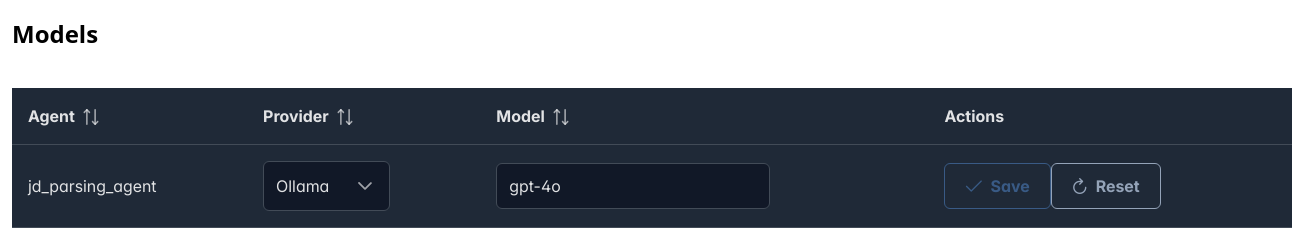
ModelsPage › resets an overridden agent back to the defaults
The width and height of the screenshot is (1292, 245).
Expected: the text "jd_parsing_agent" is shown, [28,176,156,196]
Click the button "Reset" at (1106, 186), box [1051,163,1161,209]
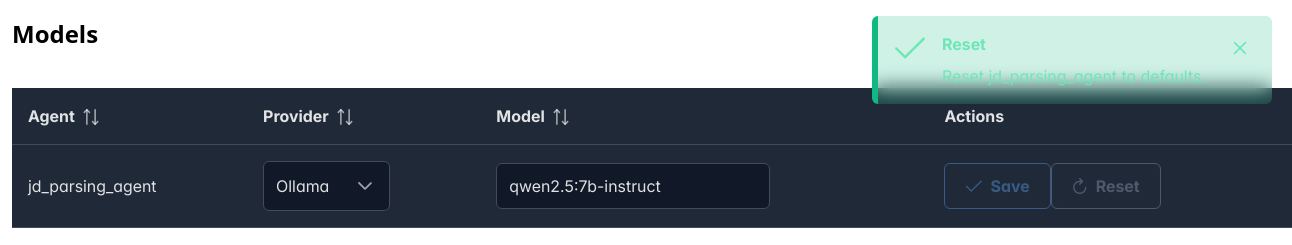
Expected: the field showing "qwen2.5:7b-instruct" is shown, [496,163,770,209]
